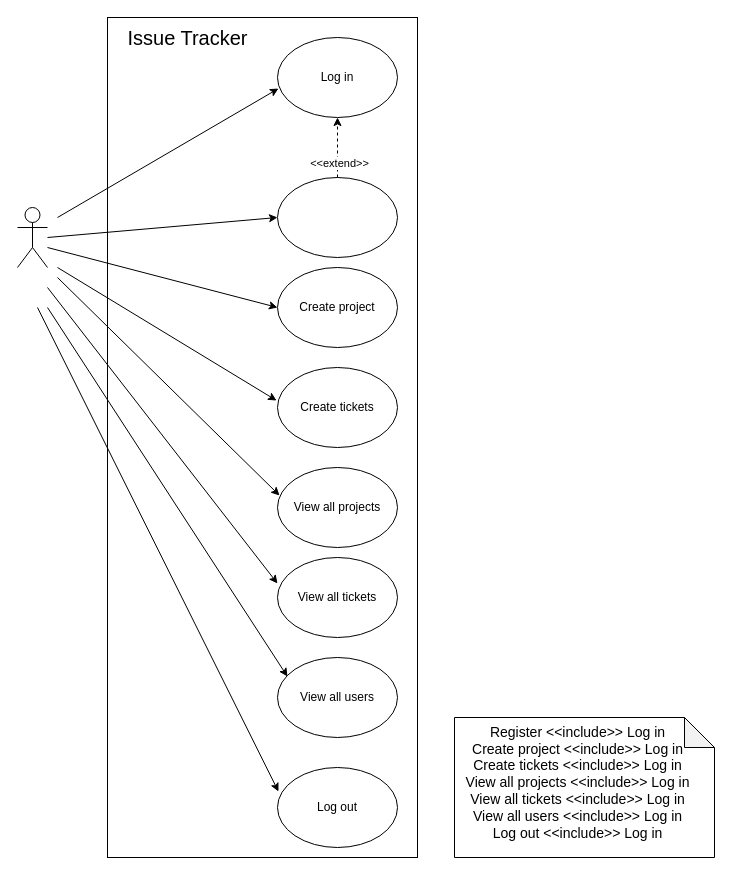
The diagram is 732 pixels wide and 875 high, and some of its shapes have lost their labels. Each missing label, with the centre of its shape:
Register: the point at 337,217
User: the point at 32,237
